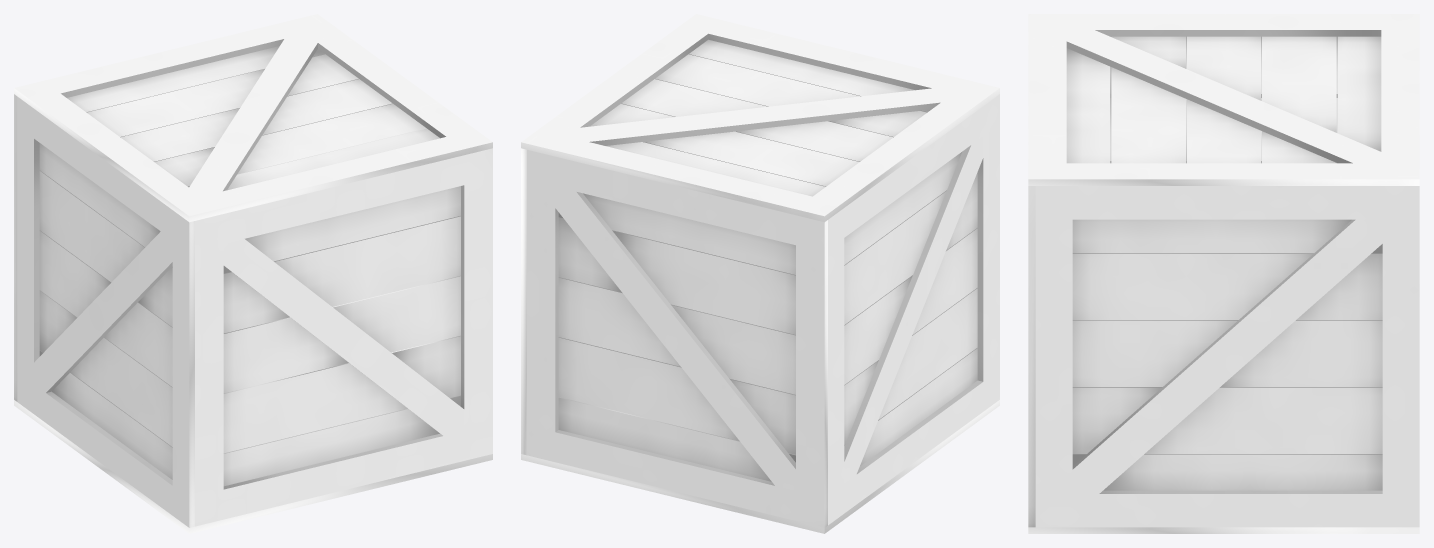
Rendered from CrateWoodenBox.glb.
3 views of the same model, side by side, from view 1: azimuth 30°, elevation 25°; view 2: azimuth 150°, elevation 25°; view 3: azimuth 270°, elevation 25° (orthographic). The views are drawn at different scales.
Visible parts, largest first — view 1: CrateWoodenBox; view 2: CrateWoodenBox; view 3: CrateWoodenBox.
Part boxes in pixels (x1=…): CrateWoodenBox: x1=14, y1=14, x2=492, y2=533; CrateWoodenBox: x1=521, y1=14, x2=999, y2=533; CrateWoodenBox: x1=1028, y1=14, x2=1419, y2=533.
Size of the model in its own units: 0.53 by 0.53 by 0.53.
Materials: 1 (1 with a texture image).
